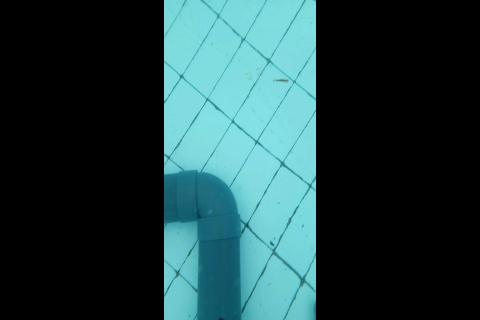kebocoran: (217, 316, 225, 319)
